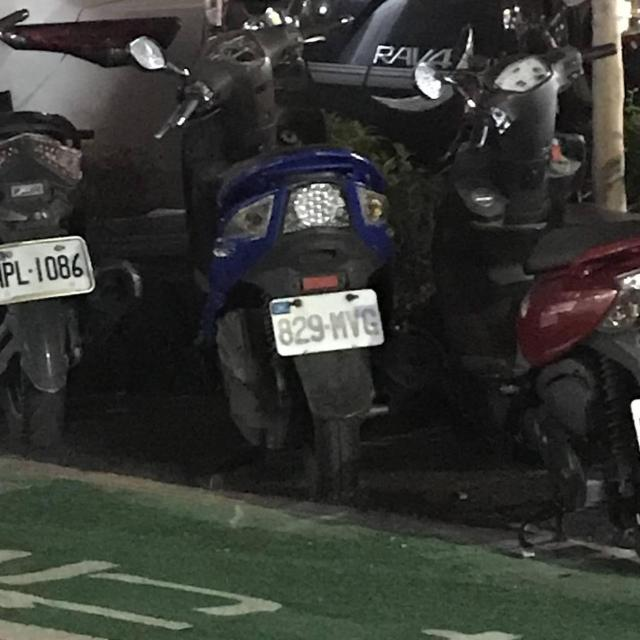W: (262, 281, 391, 361), (0, 228, 100, 310)
